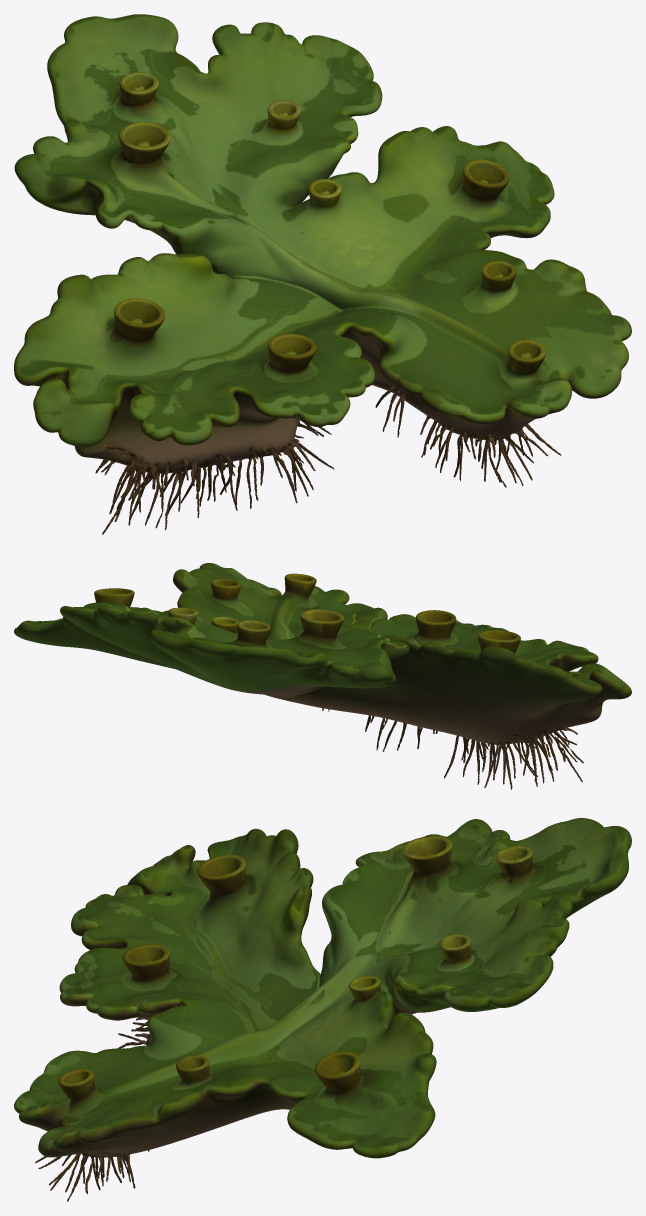
The model's file is talo.glb.
The picture shows the model from 3 angles, top to bottom: view 1: azimuth 30°, elevation 25°; view 2: azimuth 150°, elevation 25°; view 3: azimuth 270°, elevation 25°; orthographic projection. The views are drawn at different scales.
Size of the model in its own units: 2 by 0.9287 by 1.74.
1 material, 1 textured.
